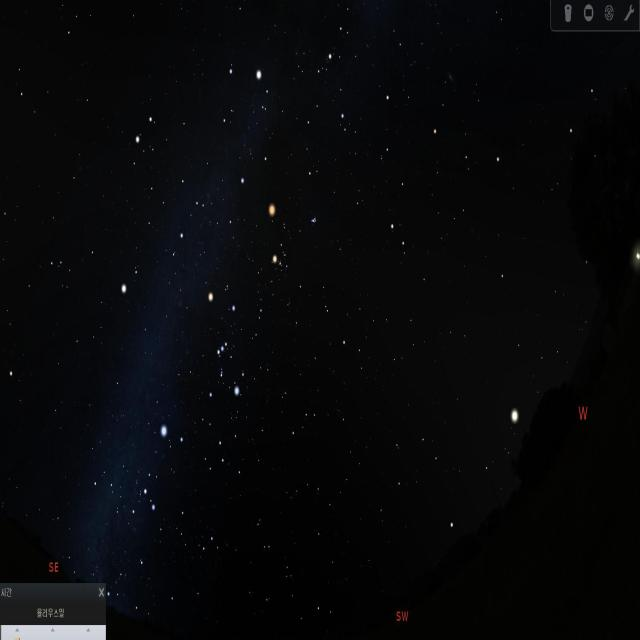canis_major: (138, 416, 185, 515)
canis_minor: (116, 254, 142, 296)
gemini: (130, 95, 213, 256)
orion: (196, 287, 242, 408)
pleiades: (308, 212, 319, 231)
taurus: (269, 206, 327, 297)
